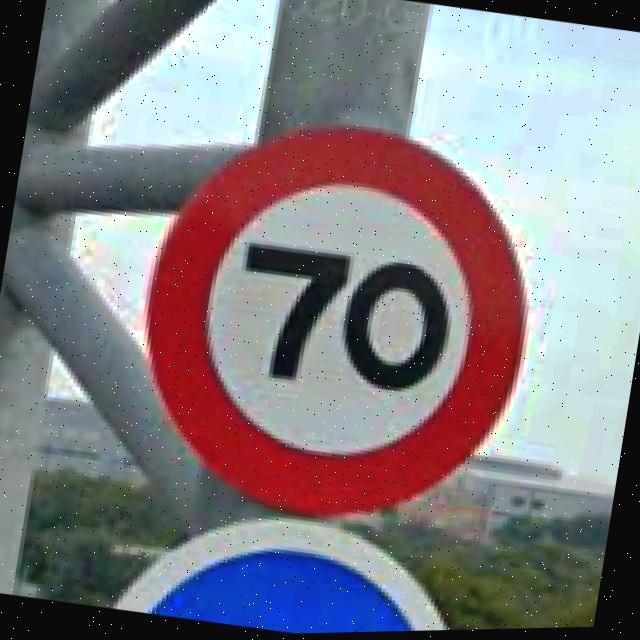max70: (112, 91, 558, 549)
